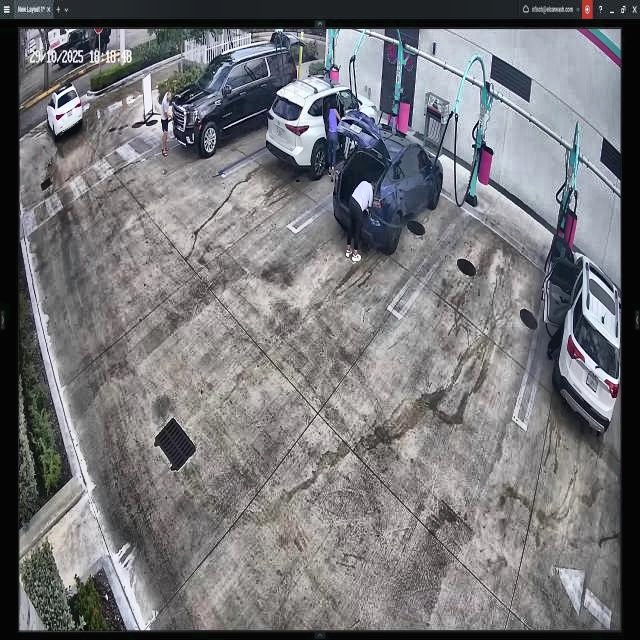Car: (172, 47, 296, 154), (336, 130, 443, 254), (266, 75, 378, 179)
